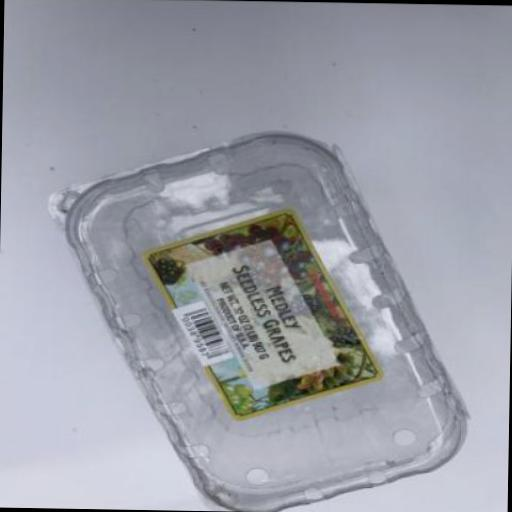plastic: (40, 125, 471, 512)
